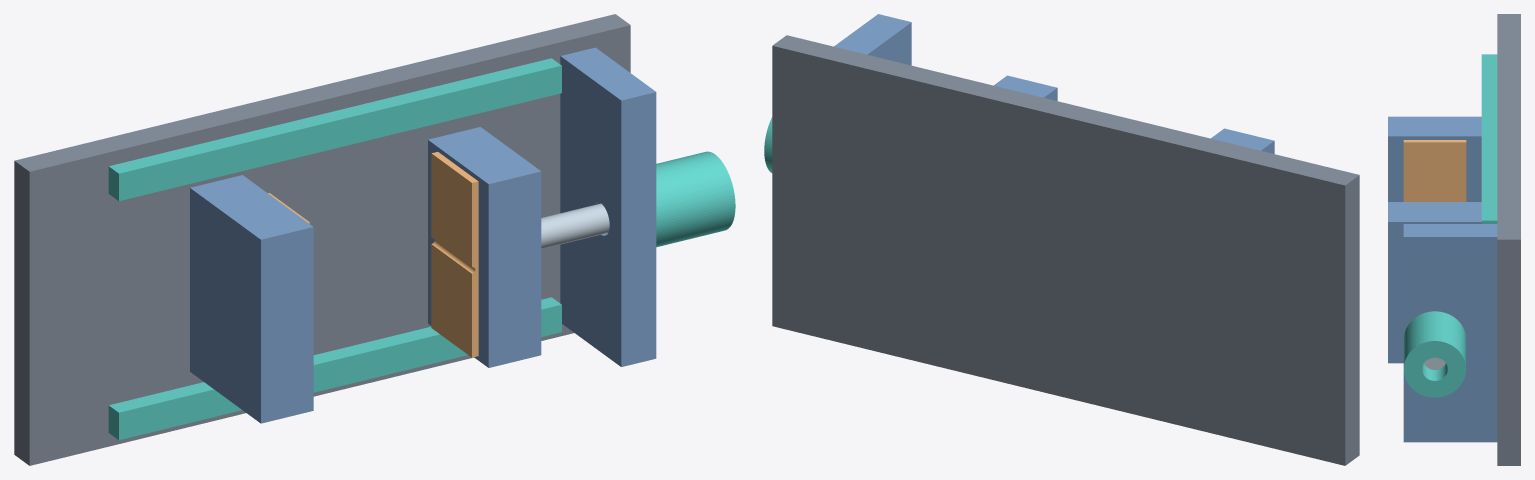
Rendered from assembly.glb.
The picture shows the model from 3 angles, left to right: view 1: azimuth 30°, elevation 25°; view 2: azimuth 150°, elevation 25°; view 3: azimuth 270°, elevation 25°; orthographic projection. The views are drawn at different scales.
Visible parts, largest first — view 1: base, fixed_jaw, actuator_support, rail_right, moving_jaw, rail_left, moving_pad, actuator_body, rod; view 2: base, actuator_support, fixed_jaw, moving_jaw; view 3: actuator_support, base, actuator_body, moving_jaw, fixed_jaw, fixed_pad, rail_right, rod.
Part boxes in pixels (x1,y1,x2,y2): base: [14, 14, 630, 465]; fixed_jaw: [190, 175, 313, 423]; actuator_support: [560, 47, 656, 366]; rail_right: [108, 58, 561, 200]; moving_jaw: [428, 127, 541, 367]; rail_left: [108, 297, 561, 440]; moving_pad: [431, 152, 478, 357]; actuator_body: [656, 151, 735, 247]; rod: [541, 203, 609, 249]; base: [772, 35, 1359, 465]; actuator_support: [834, 14, 911, 65]; fixed_jaw: [1211, 128, 1274, 153]; moving_jaw: [994, 75, 1057, 100]; actuator_support: [1403, 224, 1497, 442]; base: [1497, 14, 1520, 465]; actuator_body: [1403, 311, 1466, 397]; moving_jaw: [1388, 202, 1481, 363]; fixed_jaw: [1388, 116, 1481, 201]; fixed_pad: [1403, 140, 1466, 201]; rail_right: [1481, 54, 1497, 223]; rod: [1424, 357, 1445, 369].
Bounding box in the file's own units: 0.1609 × 0.0701 × 0.0372.
